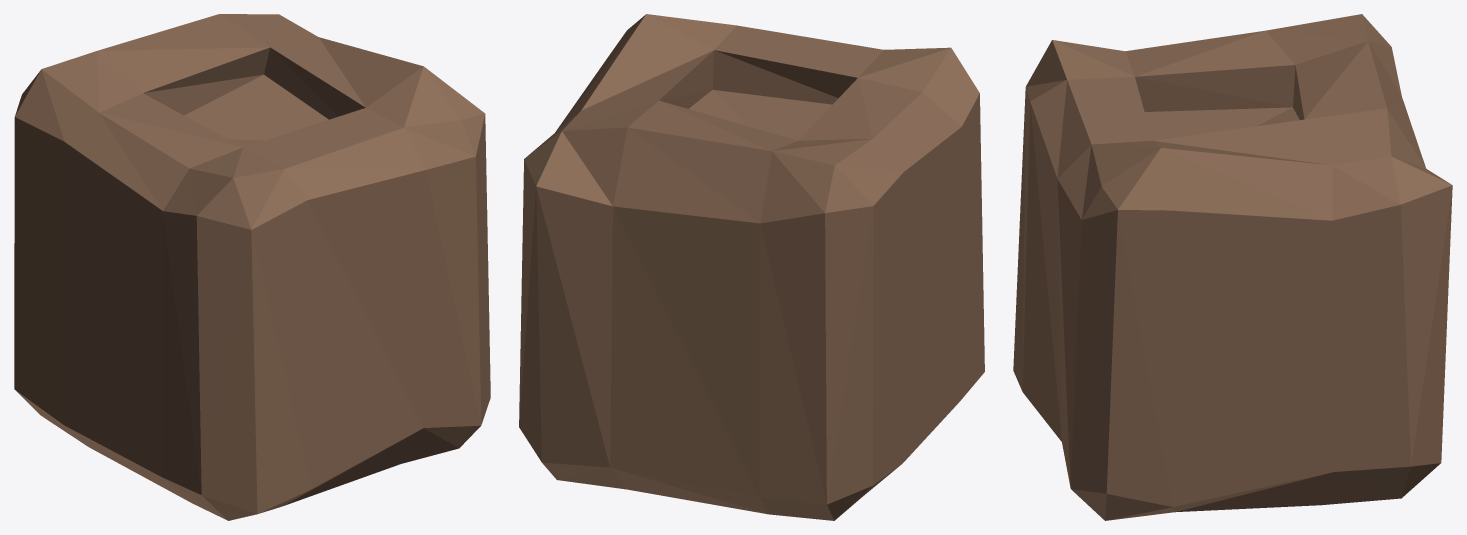
3 renders of one model, left to right at view 1: azimuth 30°, elevation 25°; view 2: azimuth 150°, elevation 25°; view 3: azimuth 270°, elevation 25°, orthographic. The views are drawn at different scales.
Parts seen in each view (by area): view 1: Cube.095; view 2: Cube.095; view 3: Cube.095.
Boxes of the visible parts, <box> form: Cube.095: <box>14,14,490,520</box>; Cube.095: <box>519,14,984,520</box>; Cube.095: <box>1013,14,1452,520</box>.
Size of the model in its own units: 90.84 by 88.8 by 95.79.
